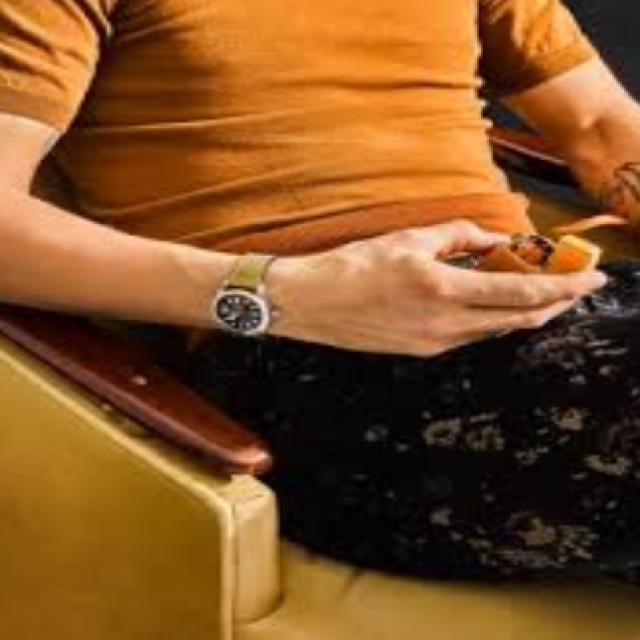Watch: (208, 254, 289, 344)
